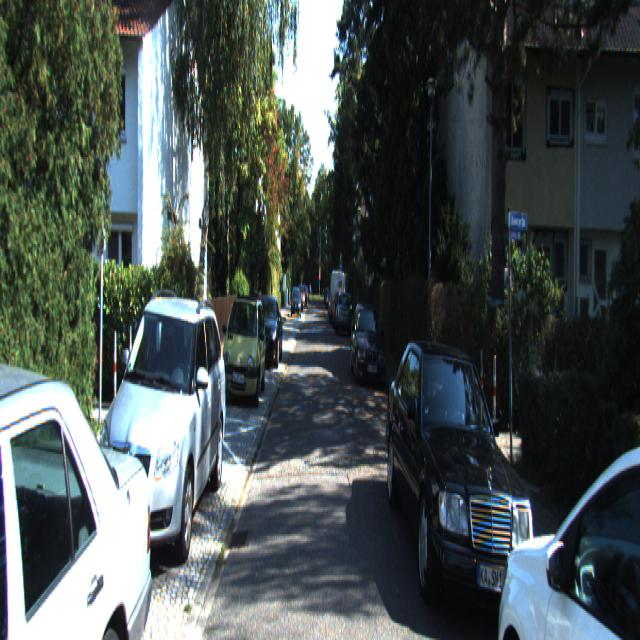Car: (0, 319, 165, 638), (384, 336, 546, 638), (84, 298, 228, 586), (490, 371, 640, 638), (221, 291, 266, 407), (349, 302, 386, 387), (251, 295, 283, 372), (331, 270, 346, 326), (336, 294, 352, 339)
